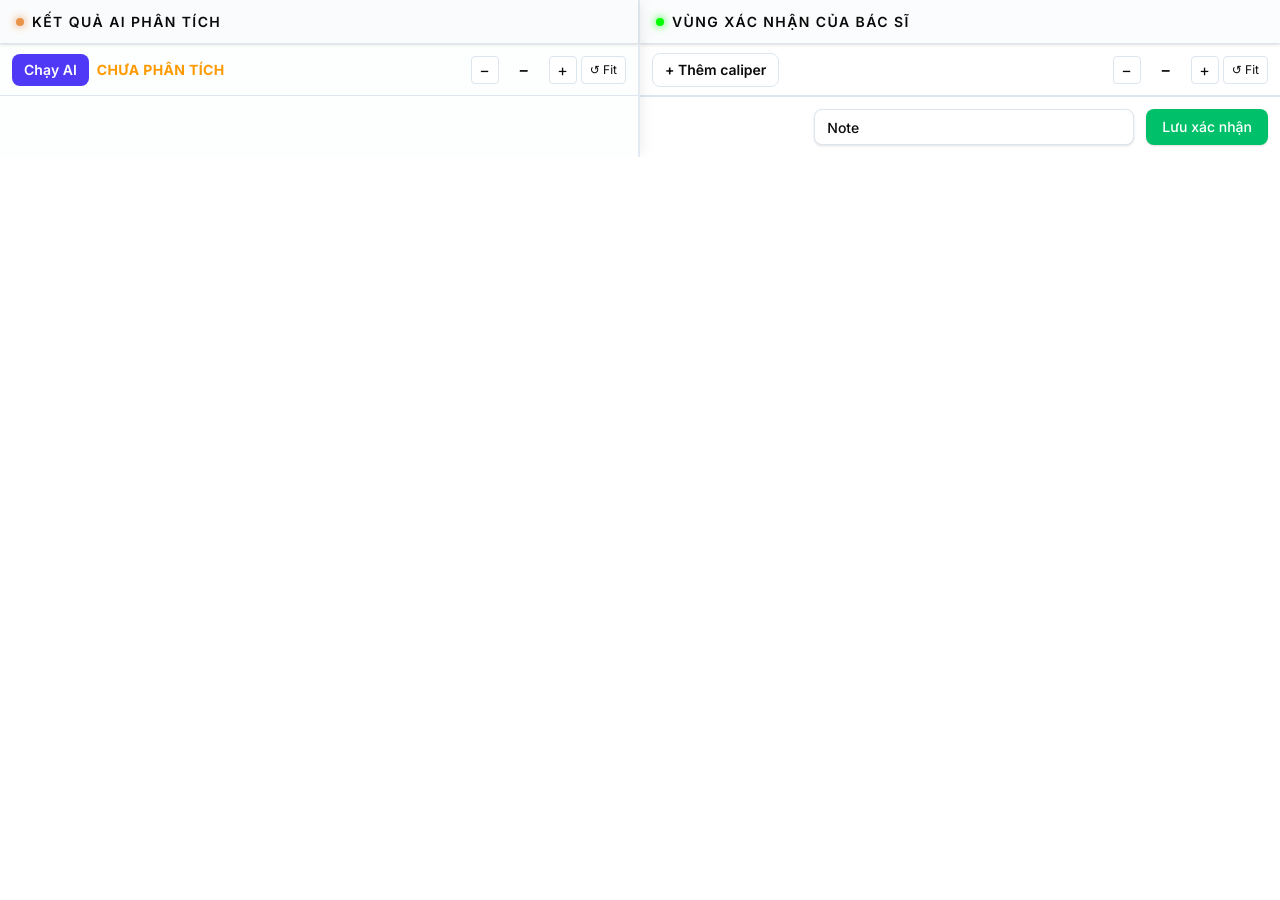
Diagnostic Studio & Buttons — Adversarial Stress Testing › 4. Save/Confirm Button Handler & Modal Notifications › catches confirmAnalysis network error gracefully without crashing
Click the button "Lưu xác nhận": (1207, 127) [1146,109,1268,145]
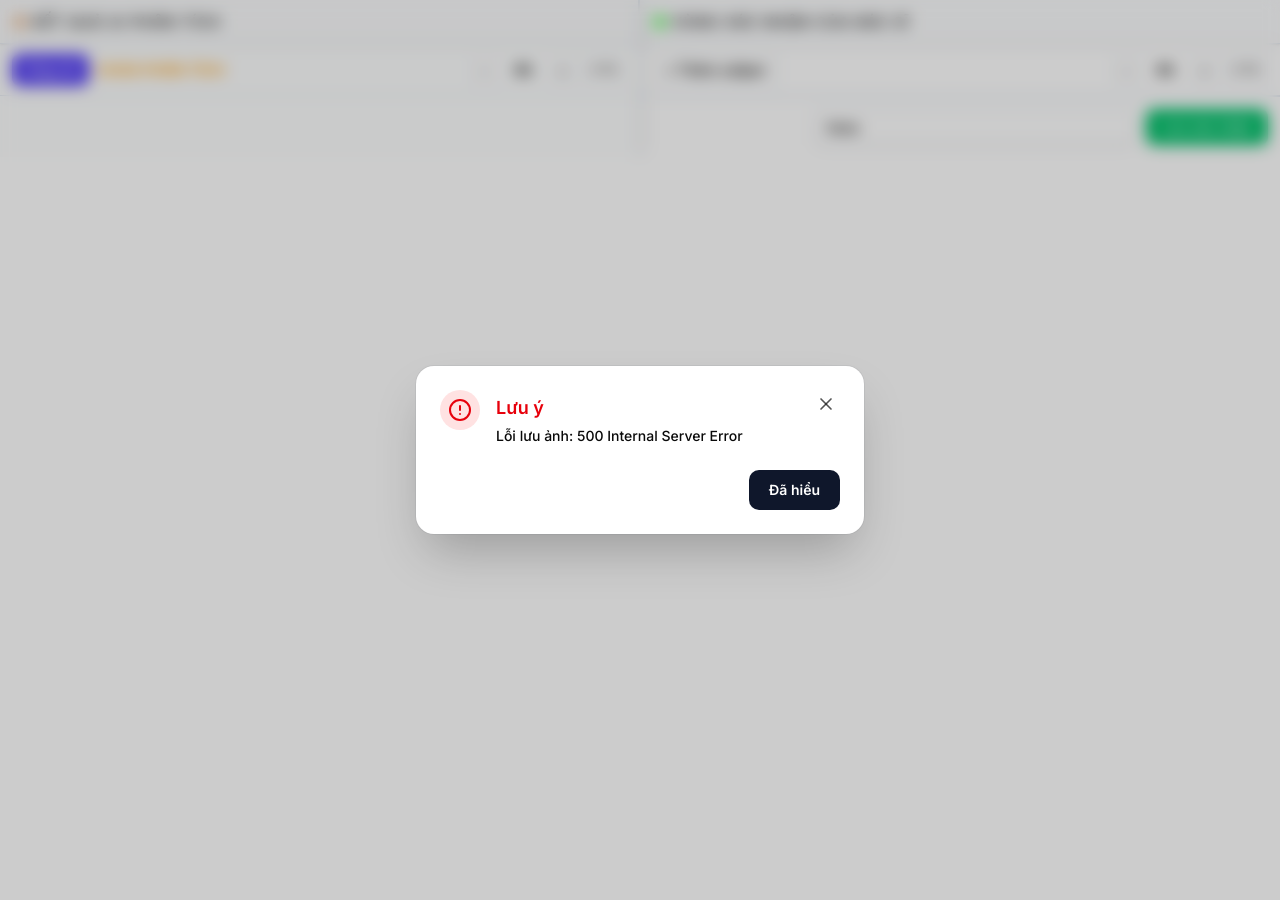
Expected: the text "Lỗi lưu ảnh: 500 Internal Server Error" is shown, [496,427,743,444]
